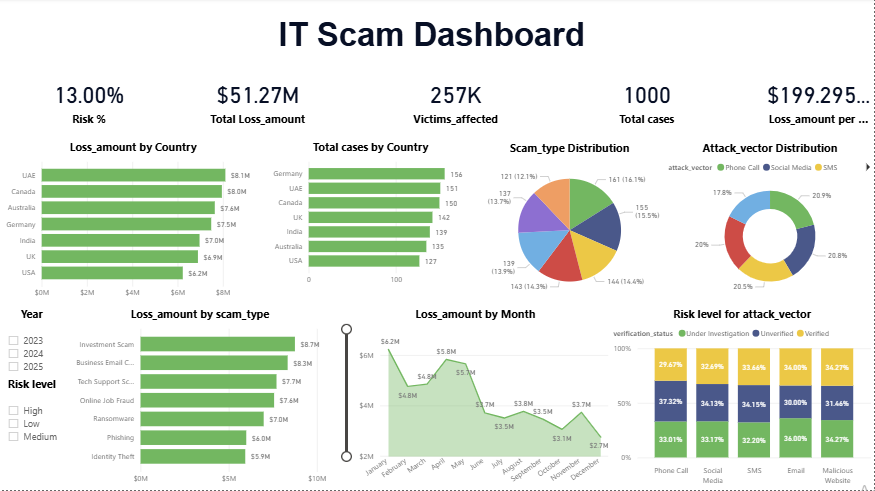

The page's visual inventory and layout, read from the dashboard file:
{"tool":"powerbi","page":{"name":"Page 1","canvas":[1280,720],"ordinal":0},"visuals":[{"type":"card","fields":{"Values":["Sum(it_scam_dataset_clean_1000_rows.loss_amount_usd)"]},"box":[237.2,107.6,280,83.2],"z":0},{"type":"card","fields":{"Values":["Sum(it_scam_dataset_clean_1000_rows.victims_affected)"]},"box":[527,107.6,280,83.2],"z":1000},{"type":"card","fields":{"Values":["Count(it_scam_dataset_clean_1000_rows.case_id)"]},"box":[807.1,107.6,280,83.2],"z":2000},{"type":"card","fields":{"Values":["it_scam_dataset_clean_1000_rows.divide"]},"box":[1115.2,107.6,165.1,83.2],"z":3000},{"type":"barChart","title":"Loss_amount by Country","fields":{"Y":["it_scam_dataset_clean_1000_rows.loss_amount"],"Category":["it_scam_dataset_clean_1000_rows.country"]},"box":[0,206.7,390.1,243.3],"z":4000},{"type":"lineChart","title":"Loss_amount by Month","fields":{"Y":["it_scam_dataset_clean_1000_rows.loss_amount"],"Category":["it_scam_dataset_clean_1000_rows.reported_date.Variation.Date Hierarchy.Month"]},"box":[496.7,450.1,399.3,270.3],"z":5000},{"type":"slicer","title":"Year","fields":{"Values":["it_scam_dataset_clean_1000_rows.reported_date.Variation.Date Hierarchy.Year"]},"box":[0,450.1,93.3,102.9],"z":6000},{"type":"slicer","title":"Risk level","fields":{"Values":["it_scam_dataset_clean_1000_rows.risk_level"]},"box":[0,553,93.3,167.4],"z":7000},{"type":"donutChart","title":"Attack_vector Distribution","fields":{"Category":["it_scam_dataset_clean_1000_rows.attack_vector"],"Y":["Count(it_scam_dataset_clean_1000_rows.case_id)"]},"box":[972.9,207.2,307.4,233.3],"z":8000},{"type":"pieChart","title":"Scam_type Distribution","fields":{"Category":["it_scam_dataset_clean_1000_rows.scam_type"],"Y":["Count(it_scam_dataset_clean_1000_rows.case_id)"]},"box":[693,207.2,279.9,242.9],"z":9000},{"type":"barChart","title":"Total cases by Country","fields":{"Category":["it_scam_dataset_clean_1000_rows.country"],"Y":["CountNonNull(it_scam_dataset_clean_1000_rows.case_id)"]},"box":[390.1,206.7,303.3,223.8],"z":10000},{"type":"barChart","title":"Loss_amount by scam_type","fields":{"Y":["it_scam_dataset_clean_1000_rows.loss_amount"],"Category":["it_scam_dataset_clean_1000_rows.scam_type"]},"box":[93.3,450.1,397.9,270.3],"z":11000},{"type":"hundredPercentStackedColumnChart","title":"Risk level for attack_vector","fields":{"Category":["it_scam_dataset_clean_1000_rows.attack_vector"],"Y":["CountNonNull(it_scam_dataset_clean_1000_rows.case_id)"],"Series":["it_scam_dataset_clean_1000_rows.verification_status"]},"box":[893.3,450.1,387,270.3],"z":12000},{"type":"card","fields":{"Values":["it_scam_dataset_clean_1000_rows.High Risk %"]},"box":[0,107.6,260.5,83.2],"z":13000},{"type":"textbox","box":[100.3,22,1061.4,85.6],"z":14000}]}

Visuals, with their boxes in screenshot pixels (x1, y1, x2, y2), scaled from the page's 1280x720 canvas onto the 875x491 screenshot:
card - Sum(it_scam_dataset_clean_1000_rows.loss_amount_usd): <bbox>162, 73, 354, 130</bbox>
card - Sum(it_scam_dataset_clean_1000_rows.victims_affected): <bbox>360, 73, 552, 130</bbox>
card - Count(it_scam_dataset_clean_1000_rows.case_id): <bbox>552, 73, 743, 130</bbox>
card - it_scam_dataset_clean_1000_rows.divide: <bbox>762, 73, 874, 130</bbox>
"Loss_amount by Country" barChart: <bbox>0, 141, 267, 307</bbox>
"Loss_amount by Month" lineChart: <bbox>340, 307, 612, 490</bbox>
"Year" slicer: <bbox>0, 307, 64, 377</bbox>
"Risk level" slicer: <bbox>0, 377, 64, 490</bbox>
"Attack_vector Distribution" donutChart: <bbox>665, 141, 874, 300</bbox>
"Scam_type Distribution" pieChart: <bbox>474, 141, 665, 307</bbox>
"Total cases by Country" barChart: <bbox>267, 141, 474, 294</bbox>
"Loss_amount by scam_type" barChart: <bbox>64, 307, 336, 490</bbox>
"Risk level for attack_vector" hundredPercentStackedColumnChart: <bbox>611, 307, 874, 490</bbox>
card - it_scam_dataset_clean_1000_rows.High Risk %: <bbox>0, 73, 178, 130</bbox>
textbox: <bbox>69, 15, 794, 73</bbox>
